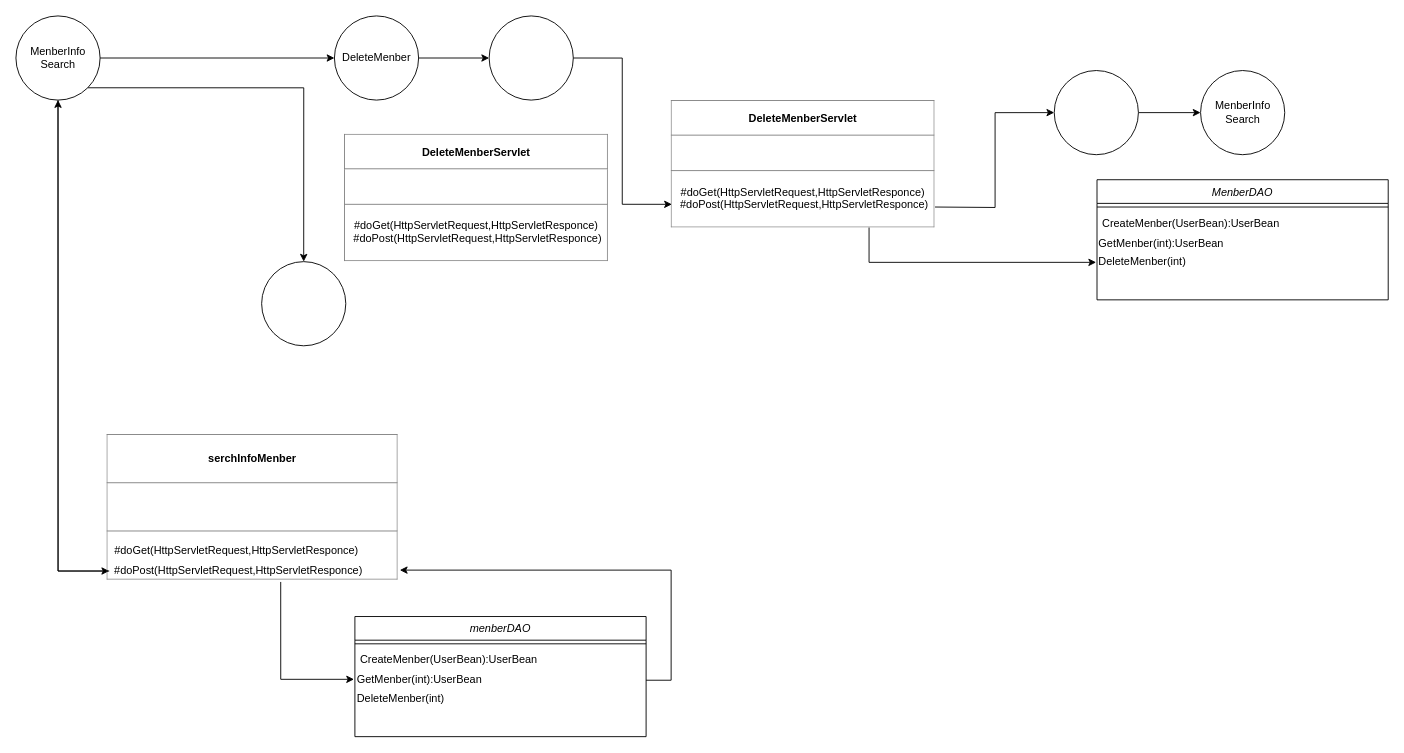
Some shapes in this 1404 by 753 pixel diagram are drawn without their labels. The box of each missing label's shape, as (x1, y1, x2, y2) in pixels:
ChangeMenber Info: (261, 261, 346, 346)
DeleteMenber Conf: (488, 15, 573, 100)
DeleteMenber Fin: (1053, 70, 1138, 155)
